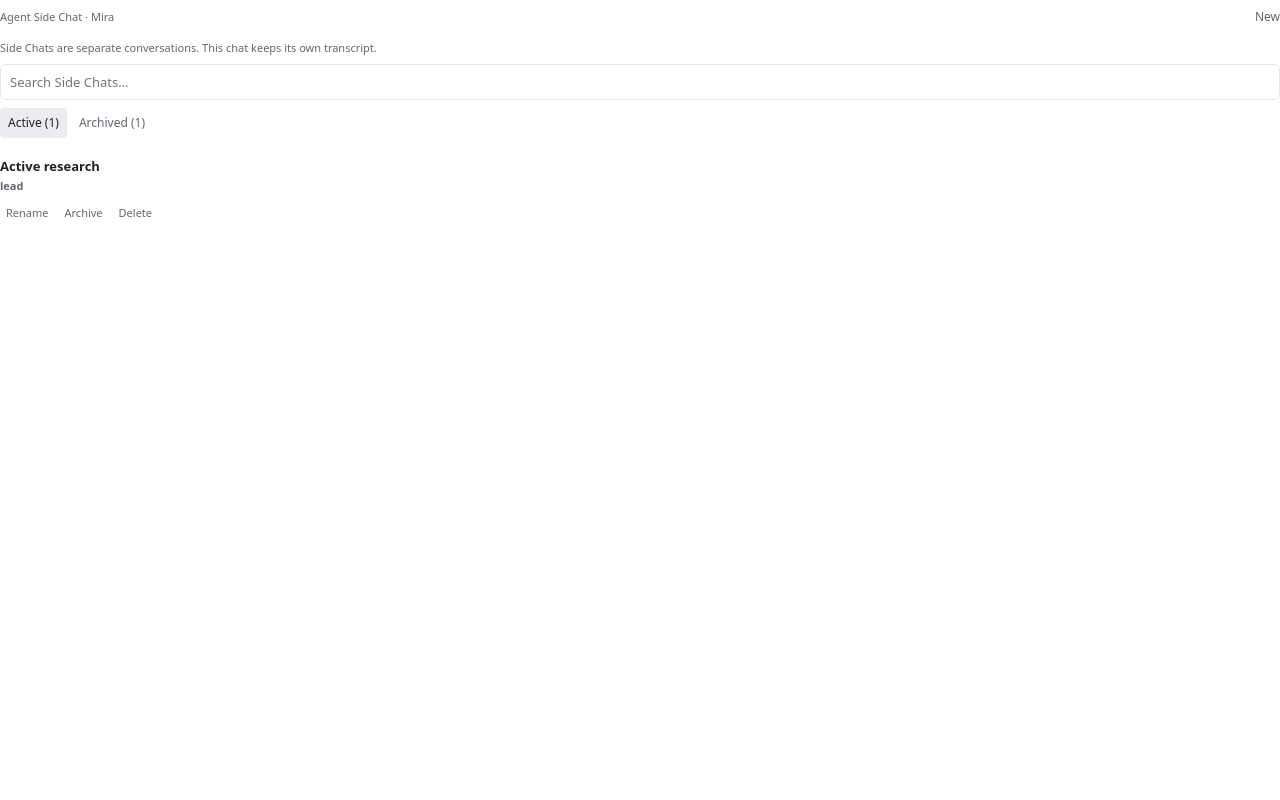
SideChatList › renames through the editor
Click the button with aria-label "Rename Active research": (27,213) 0,199 -> 54,227
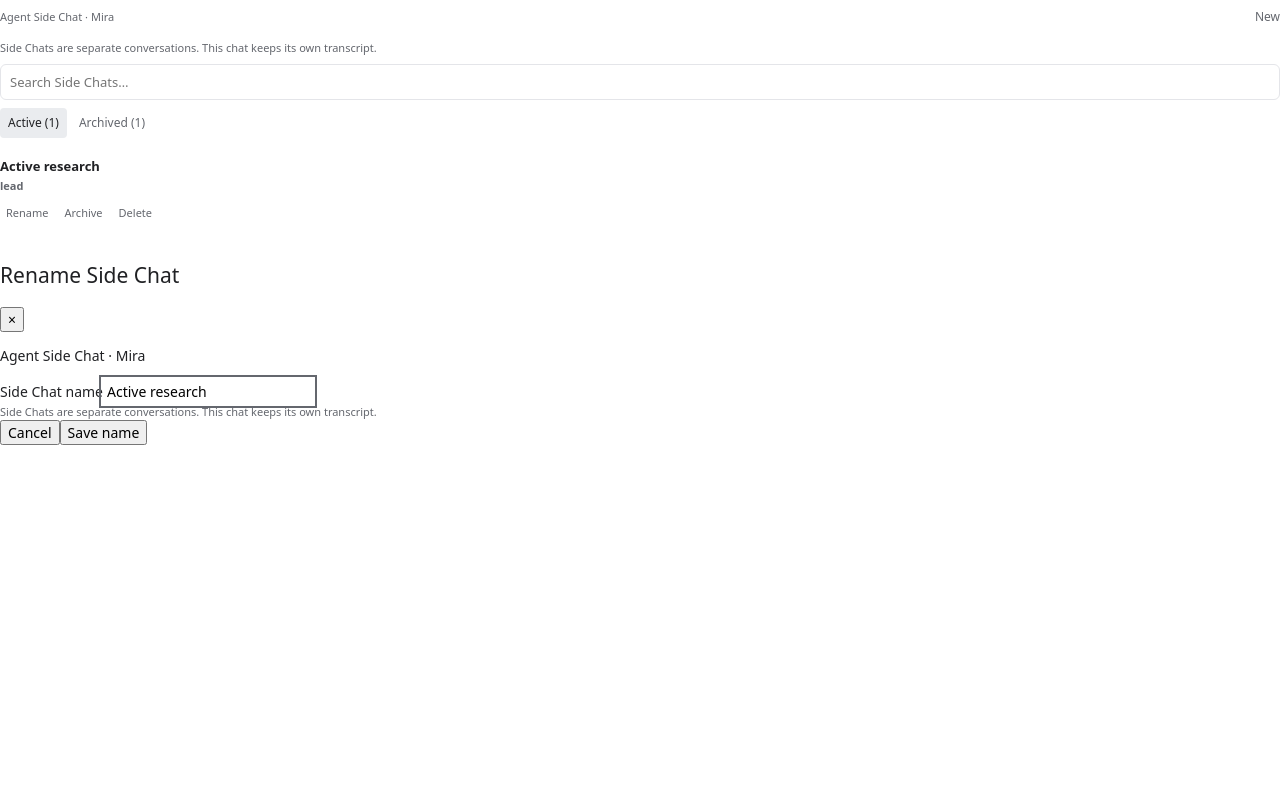
Replace the text in the field labelled "Side Chat name" with "Renamed research": (208,391) 103,379 -> 313,404
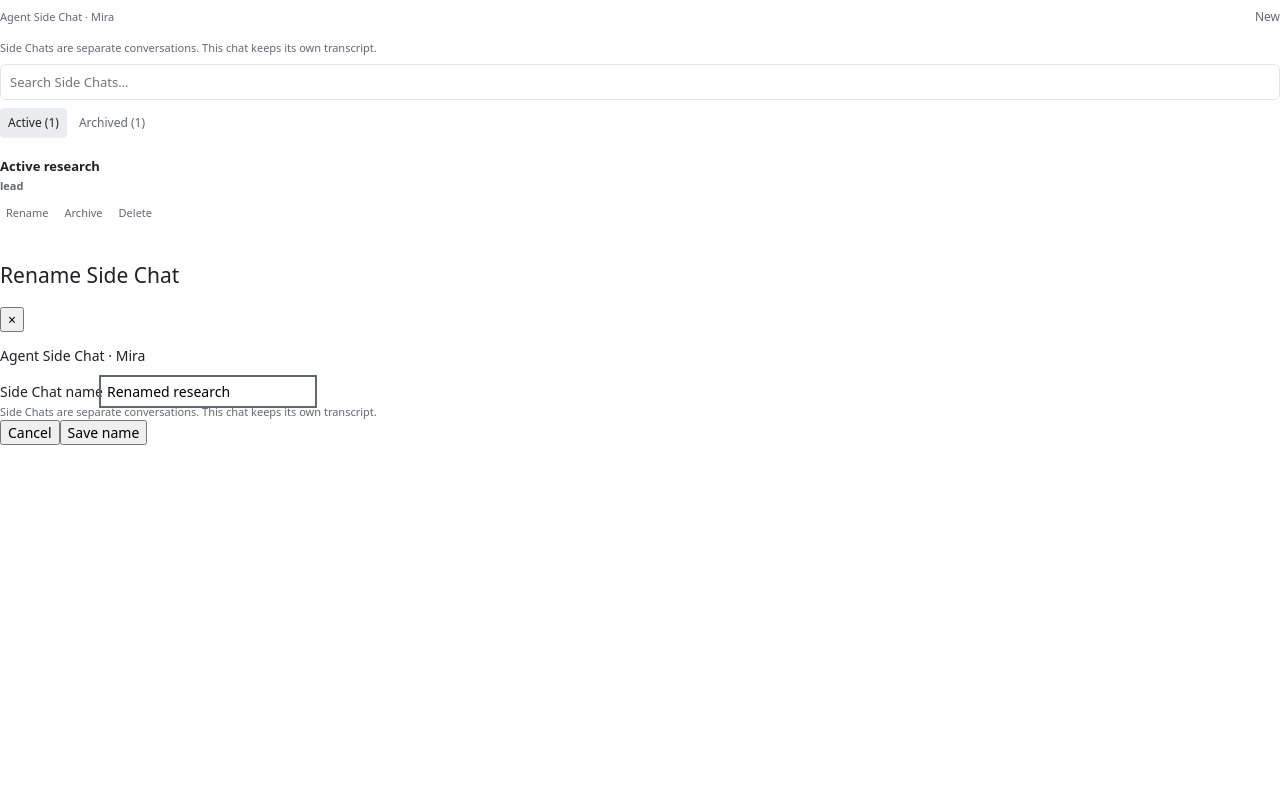
Click the button "Save name": (103,432) 60,420 -> 147,445
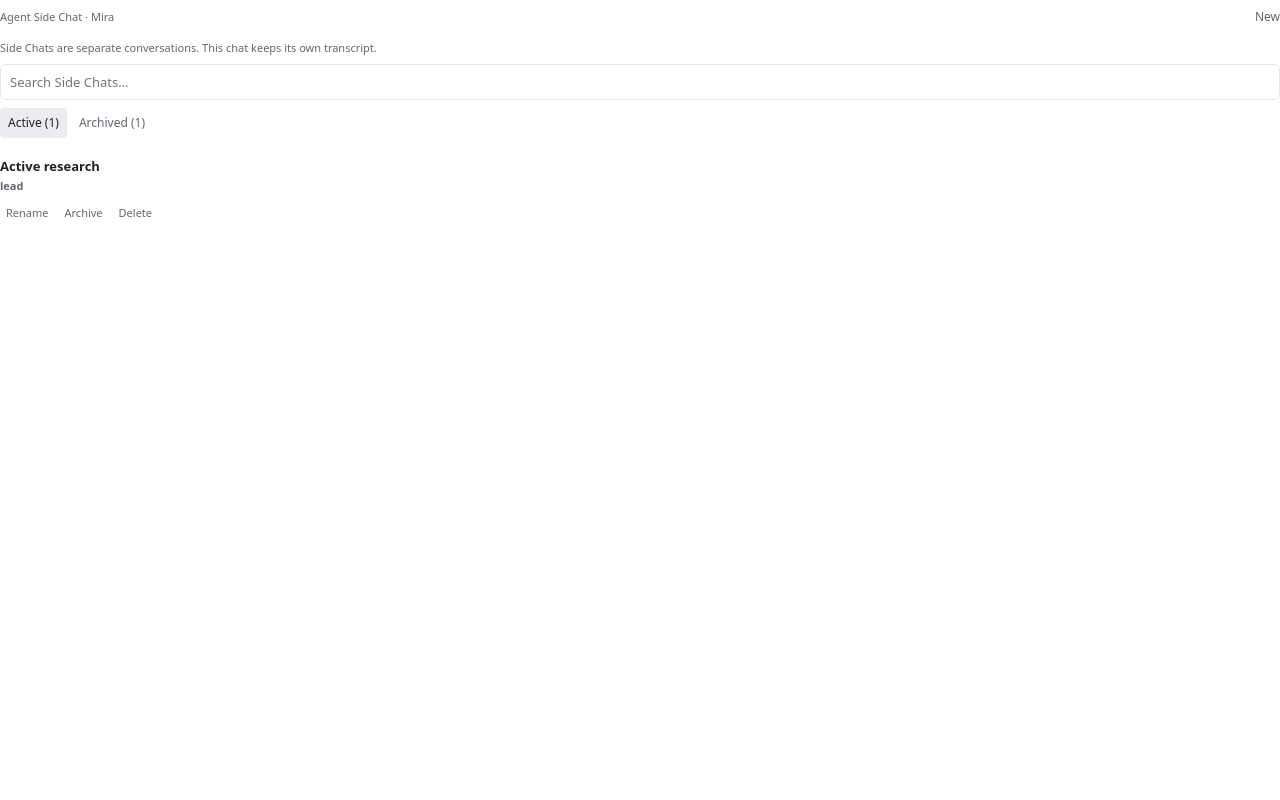
Expected: the heading "Rename Side Chat" is gone
